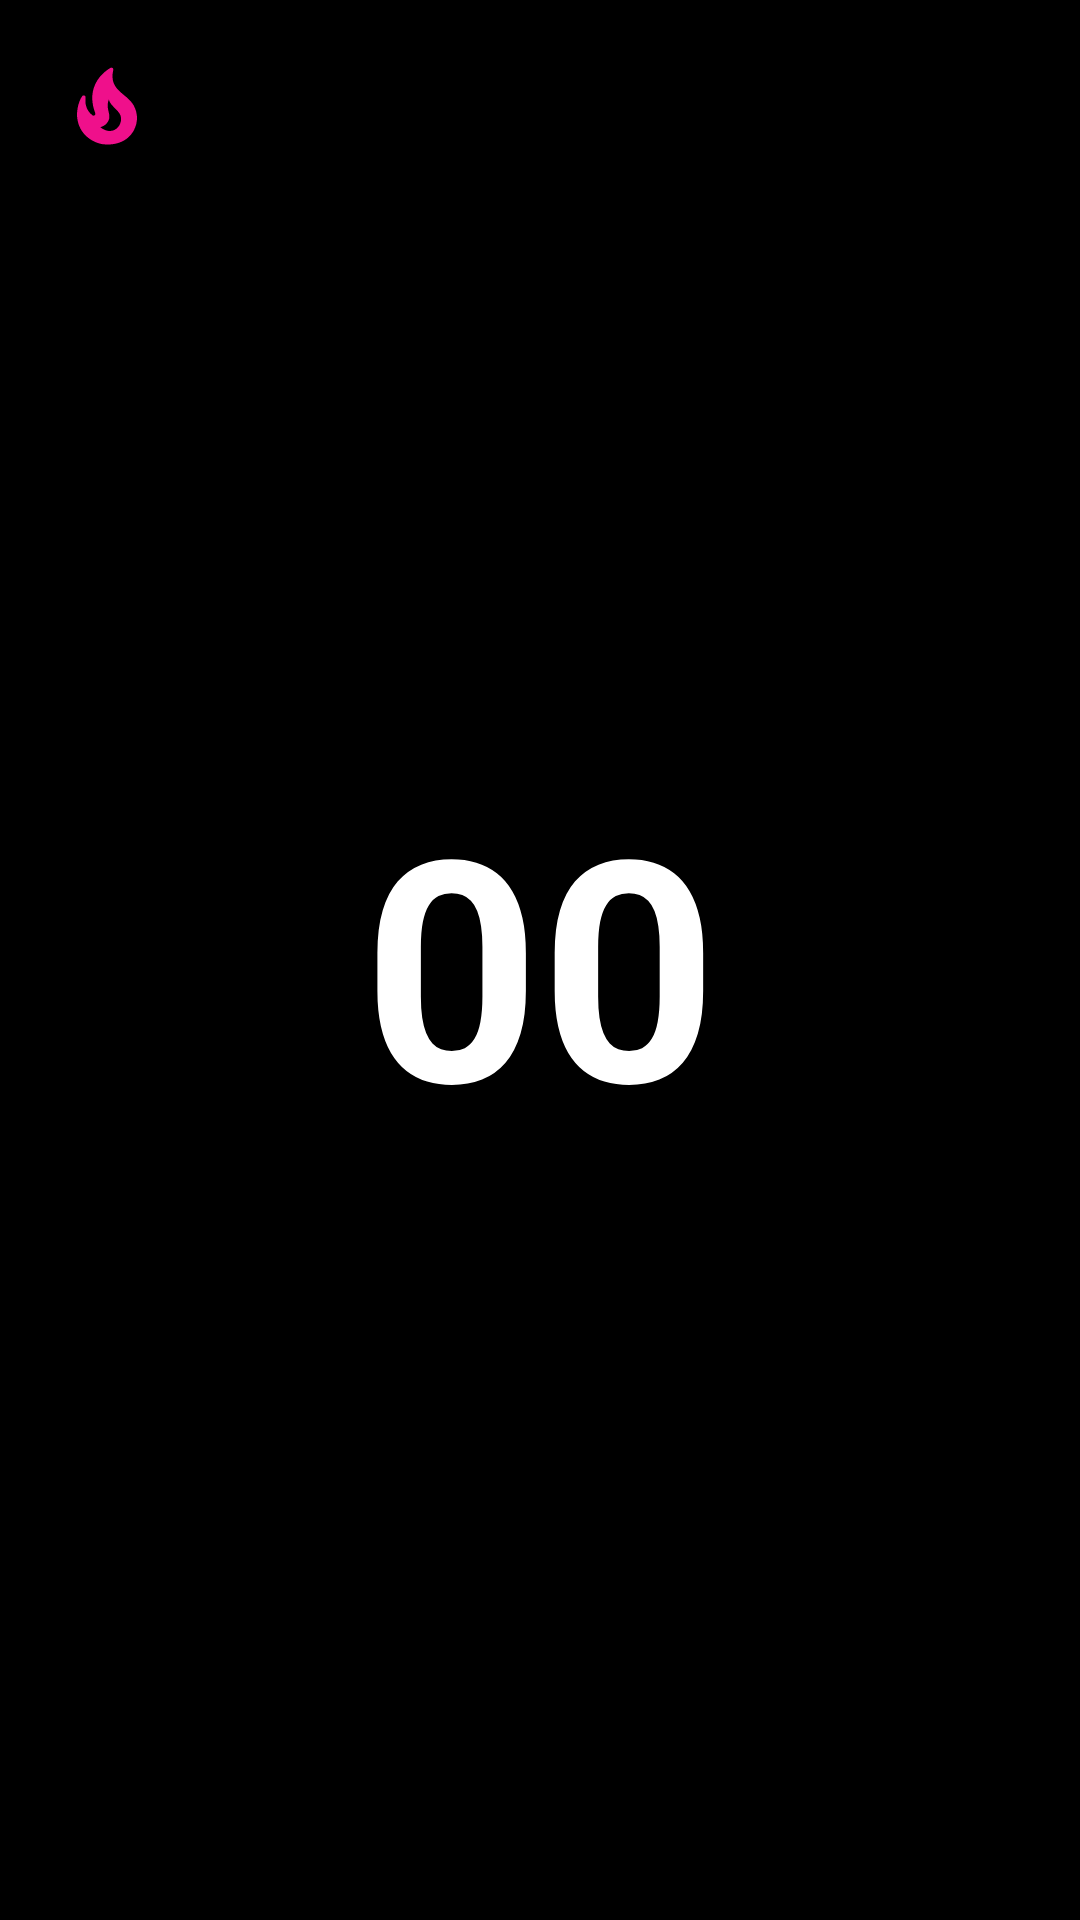

Point at icon controls on the screen. Image size 1080*1920, points as point (x, y).
local fire department: point (107, 106)
